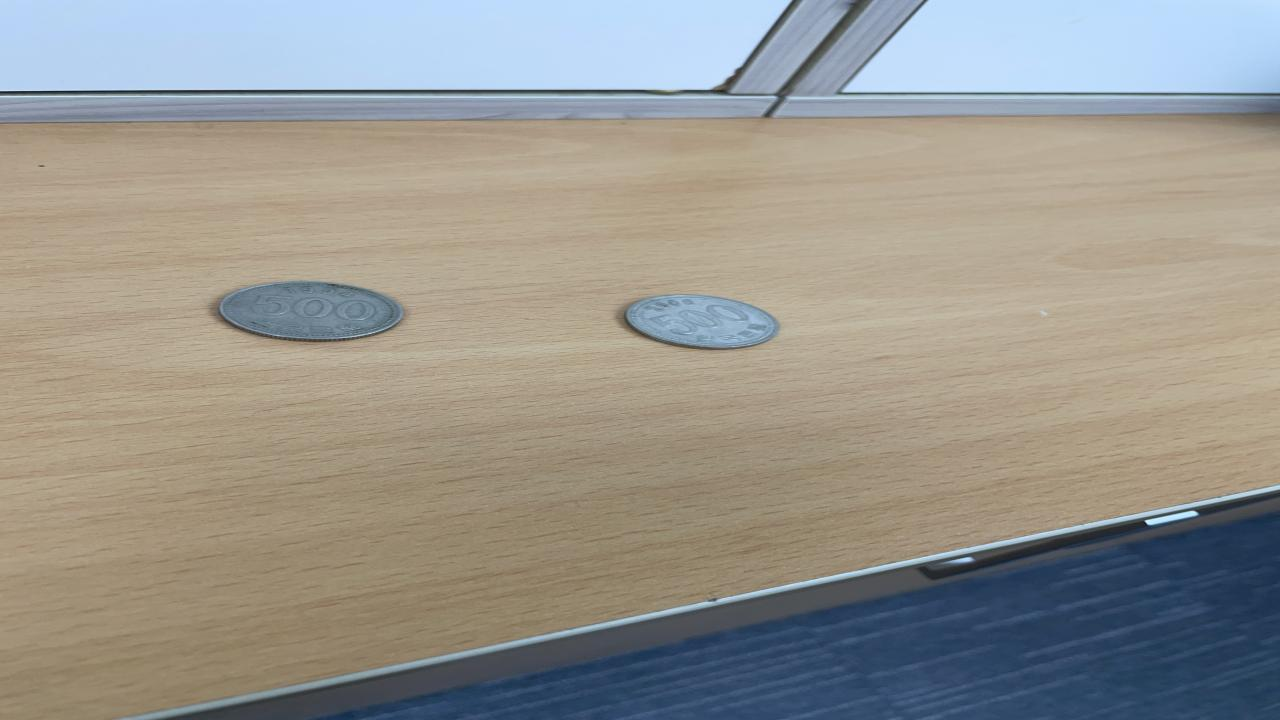coin: (216, 281, 406, 342), (621, 292, 786, 351)
